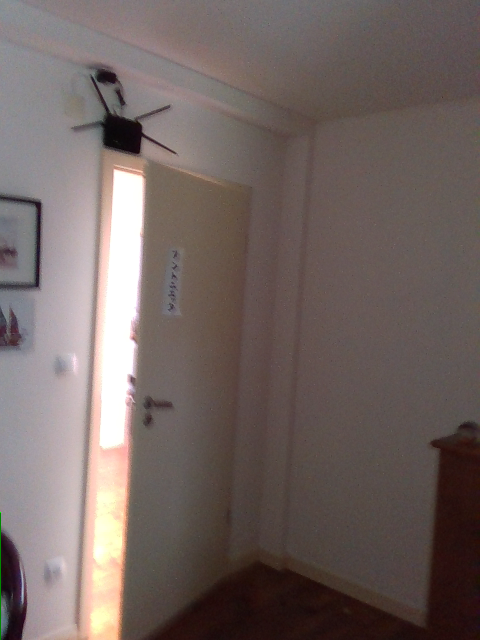semi: (78, 149, 253, 638)
